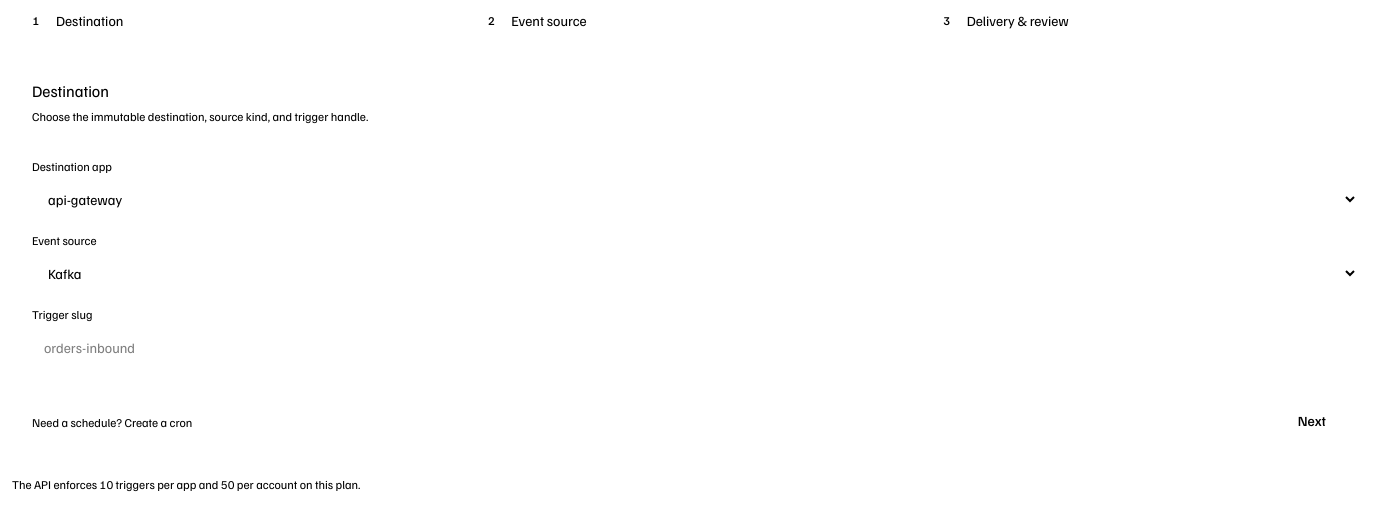
Test: CreateTrigger › does not advance until destination fields are valid
Click the button "Next" at (1322, 421), box [1286,405,1358,437]
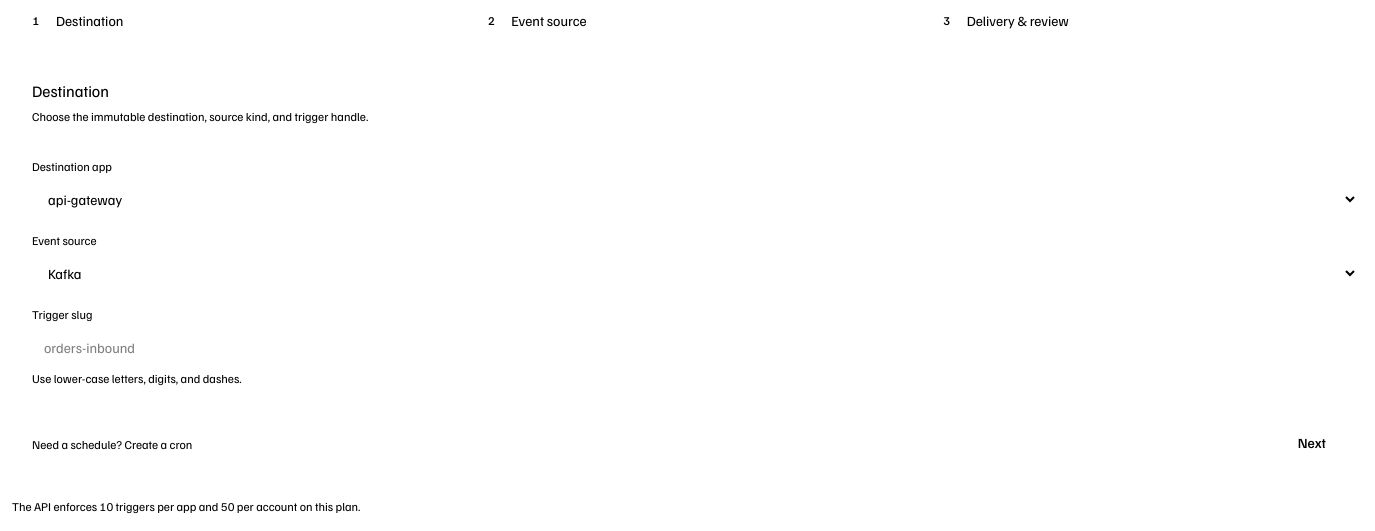
Result: the text "Use lower-case letters, digits, and dashes." is shown at [32,371,242,386]
